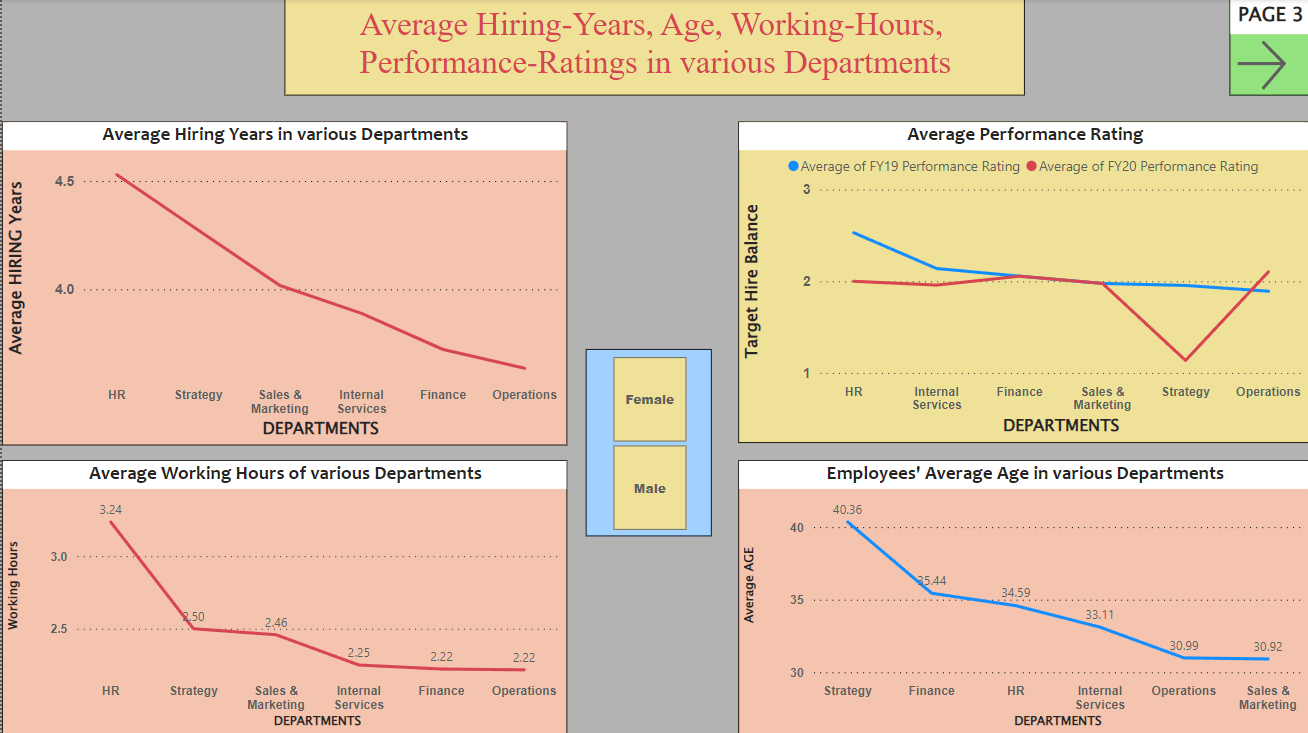

This screenshot's page, from the dashboard's own definition file:
{"tool":"powerbi","page":{"name":"Page 2","canvas":[1280,720],"ordinal":1},"visuals":[{"type":"lineChart","title":"Average Hiring Years in various Departments","fields":{"Category":["Pharma Group AG.Department @01.07.2020"],"Y":["Avg(Pharma Group AG.Years since last hire)"]},"box":[0,119.8,552.5,316.6],"z":0},{"type":"lineChart","title":"Average Working Hours of various Departments","fields":{"Y":["Avg(Pharma Group AG.Time in Job Level @01.07.2020)"],"Category":["Pharma Group AG.Department @01.07.2020"]},"box":[0,451.1,552.5,268.9],"z":1000},{"type":"lineChart","title":"Average Performance Rating","fields":{"Category":["Pharma Group AG.Department @01.07.2020"],"Y":["Avg(Pharma Group AG.FY19 Performance Rating)","Avg(Pharma Group AG.FY20 Performance Rating)"]},"box":[720,119.8,559.9,314.2],"z":2000},{"type":"lineChart","title":"Employees'' Average Age in various Departments","fields":{"Category":["Pharma Group AG.Department @01.07.2020"],"Y":["Avg(Pharma Group AG.Age @01.07.2020)"]},"box":[720,451.1,559.9,268.9],"z":3000},{"type":"slicer","fields":{"Values":["Pharma Group AG.Gender"]},"box":[570.9,342.3,123.5,183.4],"z":4000},{"type":"textbox","box":[276.3,0,723.7,94.1],"z":5000},{"type":"actionButton","title":"PAGE 3","box":[1200.4,0,79.5,94.1],"z":6000}]}

Visuals, with their boxes in screenshot pixels (x1, y1, x2, y2), scaled from the page's 1280x720 canvas onto the 1308x733 screenshot:
"Average Hiring Years in various Departments" lineChart: <bbox>0, 122, 565, 444</bbox>
"Average Working Hours of various Departments" lineChart: <bbox>0, 459, 565, 732</bbox>
"Average Performance Rating" lineChart: <bbox>736, 122, 1307, 442</bbox>
"Employees'' Average Age in various Departments" lineChart: <bbox>736, 459, 1307, 732</bbox>
slicer - Pharma Group AG.Gender: <bbox>583, 348, 710, 535</bbox>
textbox: <bbox>282, 0, 1022, 96</bbox>
"PAGE 3" actionButton: <bbox>1227, 0, 1307, 96</bbox>
